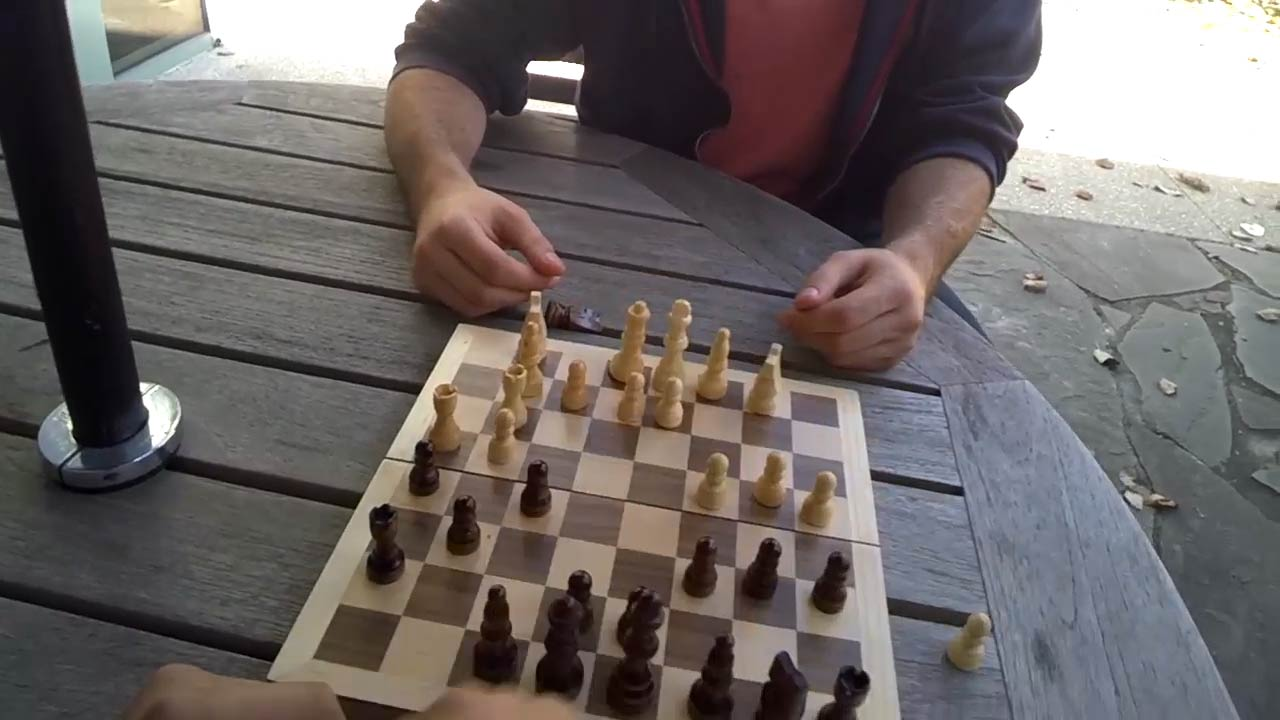hand: (410, 191, 551, 316), (783, 246, 915, 361), (130, 675, 344, 716), (429, 692, 572, 717)
